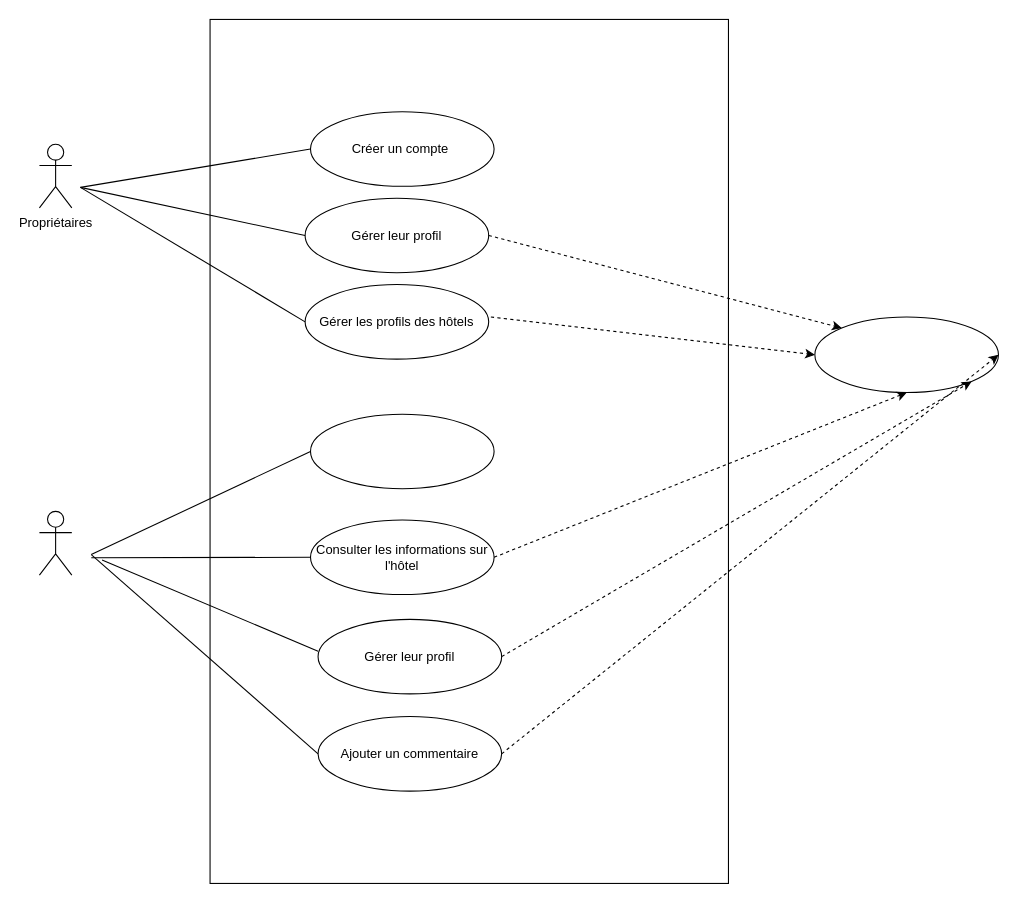
Image size: 1026x902. Some labels were removed from this diagram. The shapes that lost their labels are listed below. From the top down, each one's centre as x and y in pixels, then its label:
pixel 906 354: login
pixel 401 451: Filtre
pixel 55 542: utilisateur
